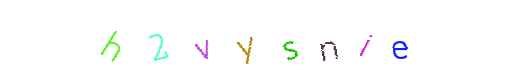2: (149, 0, 229, 80)
E: (359, 0, 439, 80)
H: (124, 0, 204, 80)
I: (288, 0, 368, 80)
N: (238, 0, 318, 80)
S: (225, 0, 305, 80)
V: (193, 0, 273, 80)
Y: (206, 0, 286, 80)
